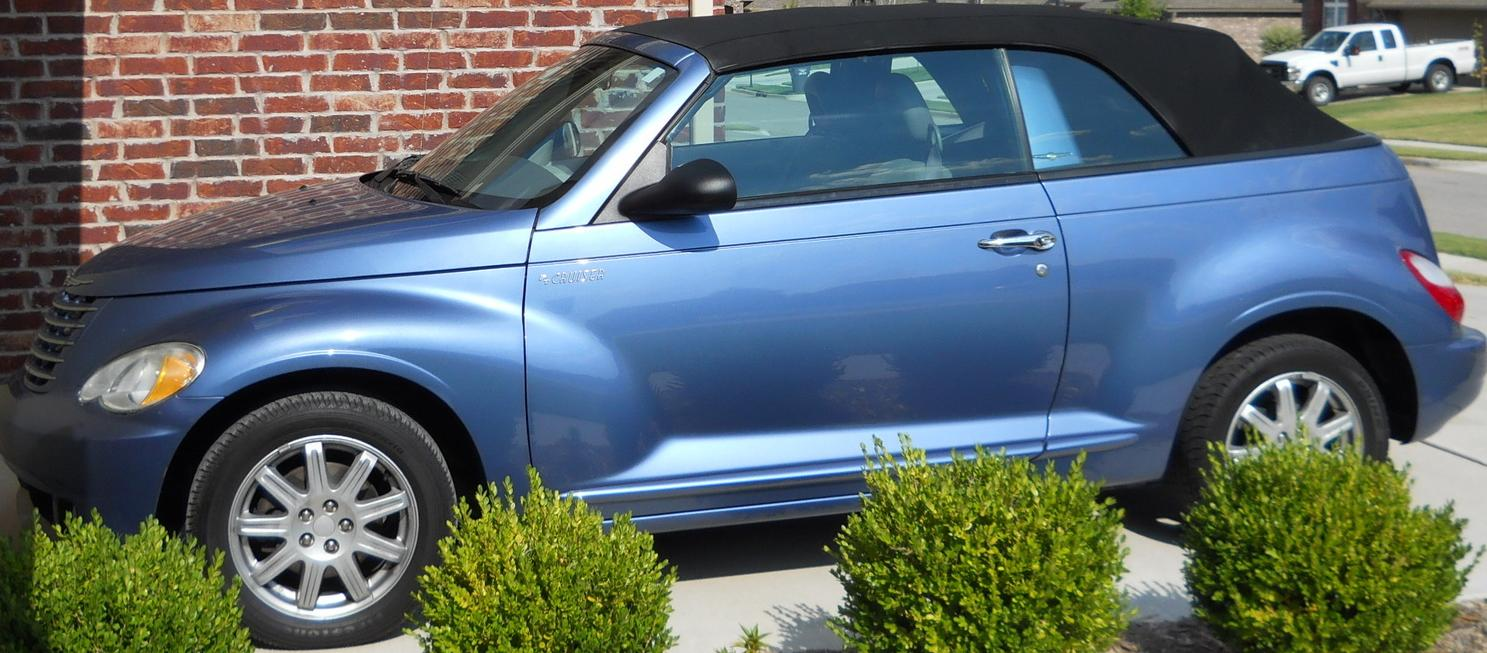backlight: (1386, 244, 1476, 342)
front_view: (18, 231, 258, 575)
headlight: (97, 344, 233, 419)
side_glass: (620, 33, 1204, 187)
